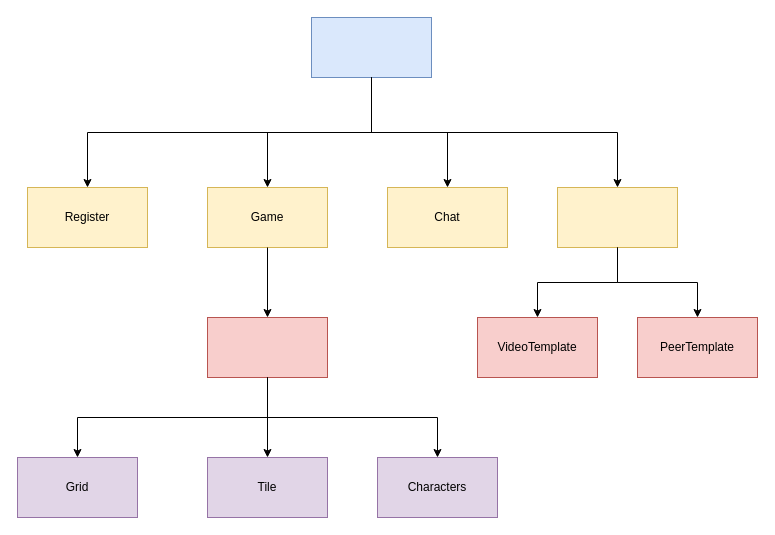
Some shapes in this 775 by 535 pixel diagram are drawn without their labels. The centre of each missing label's shape, as x and y in pixels:
"App" belongs at pixel 371 47.
"Map" belongs at pixel 267 347.
"VideoManager" belongs at pixel 617 217.
